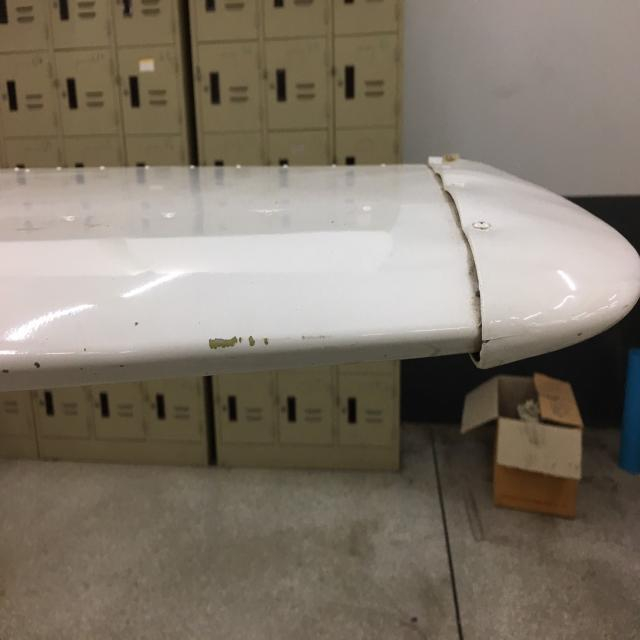Rupture: (188, 304, 328, 366), (0, 345, 65, 388)
